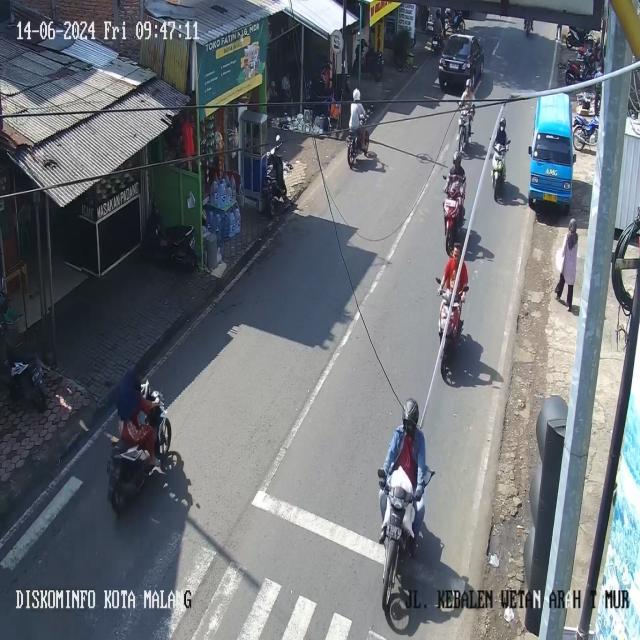Helmet: (402, 398, 418, 428), (453, 151, 462, 164), (353, 88, 360, 101), (499, 117, 505, 127), (465, 79, 471, 87), (435, 9, 440, 17)
Number Plate: (387, 524, 401, 539), (543, 193, 556, 202)
Rearview Mirror: (377, 468, 385, 478), (275, 134, 280, 142), (528, 146, 532, 155), (463, 285, 468, 291), (435, 277, 440, 283), (573, 153, 576, 162)
